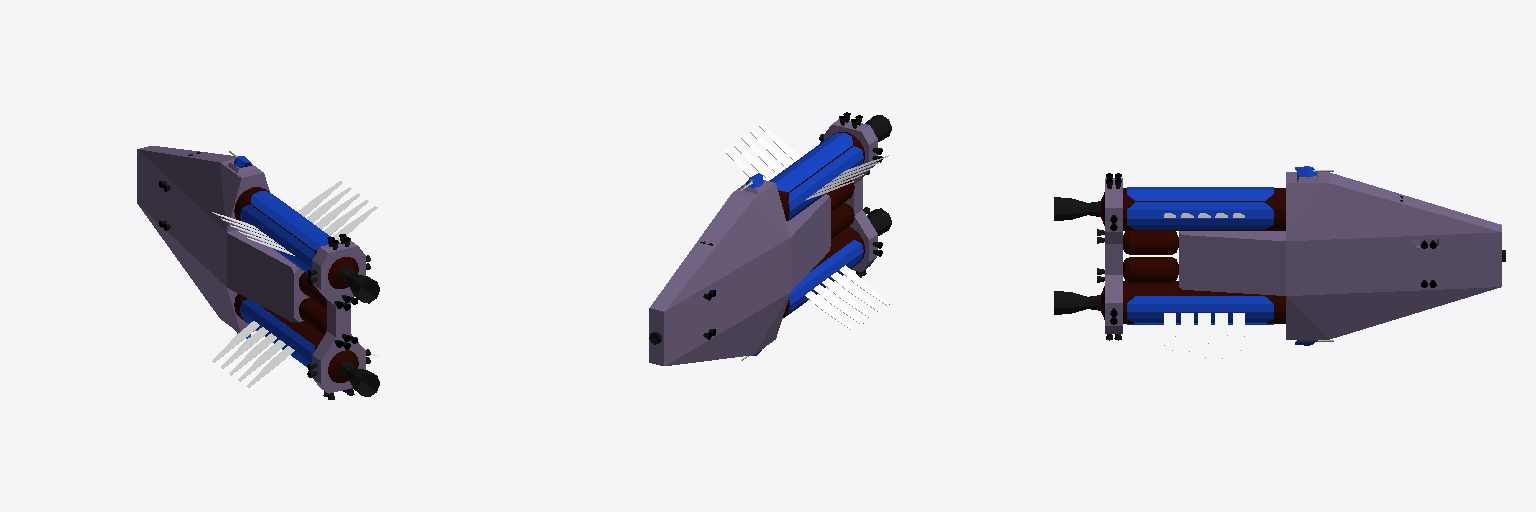
Rendered from Combatship.obj.
3 renders of one model, left to right at view 1: azimuth 30°, elevation 25°; view 2: azimuth 150°, elevation 25°; view 3: azimuth 270°, elevation 25°, orthographic.
Parts seen in each view (by area): view 1: Main_Hull, Cube, Radiators.002, Armour_Panel, Radiators, Armour_Panel.005, Armour_Panel.003, Fuel_Tank.001, Fuel_Tank.002, Thruster.001, Thruster.002, Fuel_Tank.004 (+1 smaller); view 2: Main_Hull, Cube, Radiators.002, Armour_Panel, Armour_Panel.003, Armour_Panel.005, Radiators, Fuel_Tank.001, Fuel_Tank.004, Radiators.003; view 3: Main_Hull, Armour_Panel.004, Armour_Panel.001, Cube, Radiators.001, Armour_Panel, Fuel_Tank.001, Radiators.003, Fuel_Tank.004, Fuel_Tank.003, Fuel_Tank.002, Thruster.001 (+1 smaller).
Part boxes in pixels (x1,y1,x2,y2): Main_Hull: (137, 146, 309, 332); Cube: (312, 241, 365, 393); Radiators.002: (212, 321, 294, 387); Armour_Panel: (251, 191, 330, 250); Radiators: (298, 181, 377, 241); Armour_Panel.005: (240, 299, 314, 370); Armour_Panel.003: (240, 204, 314, 276); Fuel_Tank.001: (234, 294, 358, 382); Fuel_Tank.002: (234, 187, 358, 288); Thruster.001: (338, 361, 379, 396); Thruster.002: (338, 267, 379, 303); Fuel_Tank.004: (299, 298, 326, 334); Main_Hull: (649, 180, 830, 365); Cube: (824, 119, 877, 271); Radiators.002: (805, 265, 889, 330); Armour_Panel: (770, 133, 852, 191); Armour_Panel.003: (788, 146, 863, 219); Armour_Panel.005: (788, 240, 863, 313); Radiators: (724, 124, 800, 180); Fuel_Tank.001: (783, 227, 864, 317); Fuel_Tank.004: (831, 203, 854, 238); Radiators.003: (805, 155, 889, 200); Main_Hull: (1179, 172, 1501, 339); Armour_Panel.004: (1127, 202, 1273, 229); Armour_Panel.001: (1127, 296, 1273, 322); Cube: (1105, 178, 1122, 333); Radiators.001: (1164, 313, 1244, 361); Armour_Panel: (1127, 187, 1273, 200); Fuel_Tank.001: (1101, 281, 1285, 323); Radiators.003: (1164, 150, 1244, 186); Fuel_Tank.004: (1123, 257, 1178, 282); Fuel_Tank.003: (1123, 231, 1178, 254); Fuel_Tank.002: (1101, 188, 1285, 230); Thruster.001: (1054, 291, 1100, 314).
Size of the model in its own units: 34.54 by 45 by 105.